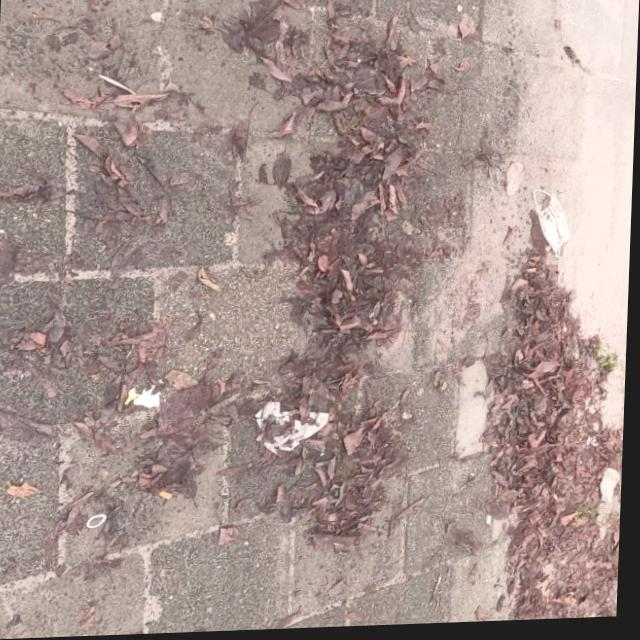Mask: (524, 193, 578, 267)
